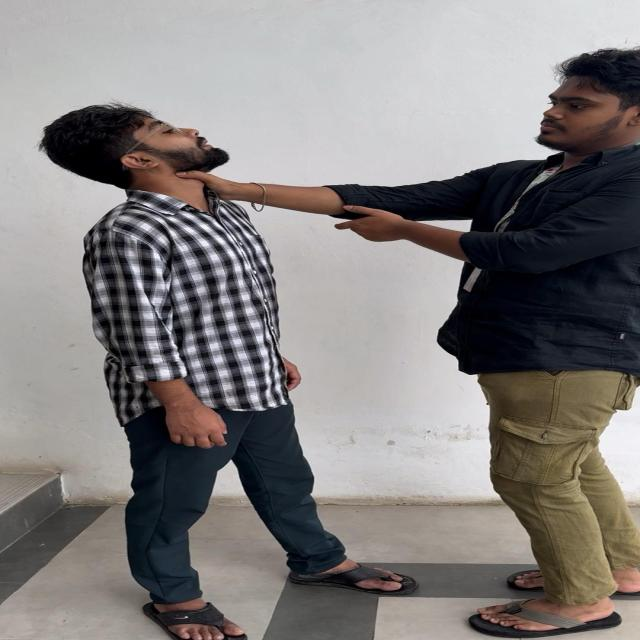fight: (38, 35, 640, 630)
